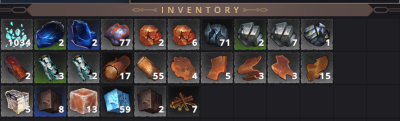birch log: (68, 51, 98, 82), (35, 53, 66, 82)
copper ore: (168, 19, 198, 49), (135, 19, 164, 49)
durable hide: (302, 51, 331, 82)
ethereal dust: (1, 19, 32, 49)
flexible hide: (234, 51, 264, 82)
iron ore: (101, 19, 132, 50)
limestone stone: (1, 85, 32, 116)
oak log: (135, 52, 166, 82)
silver ore: (268, 19, 298, 49), (236, 18, 265, 48)
slate stone: (135, 84, 165, 115), (36, 86, 64, 115)
soft hide: (168, 51, 198, 82)
strong hide: (203, 52, 231, 82)
tin ore: (302, 19, 331, 49)
tough hide: (268, 51, 298, 81)
yew log: (2, 53, 33, 82)
